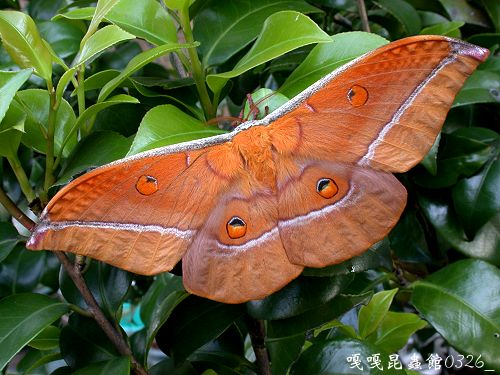feie: (54, 34, 472, 291)
